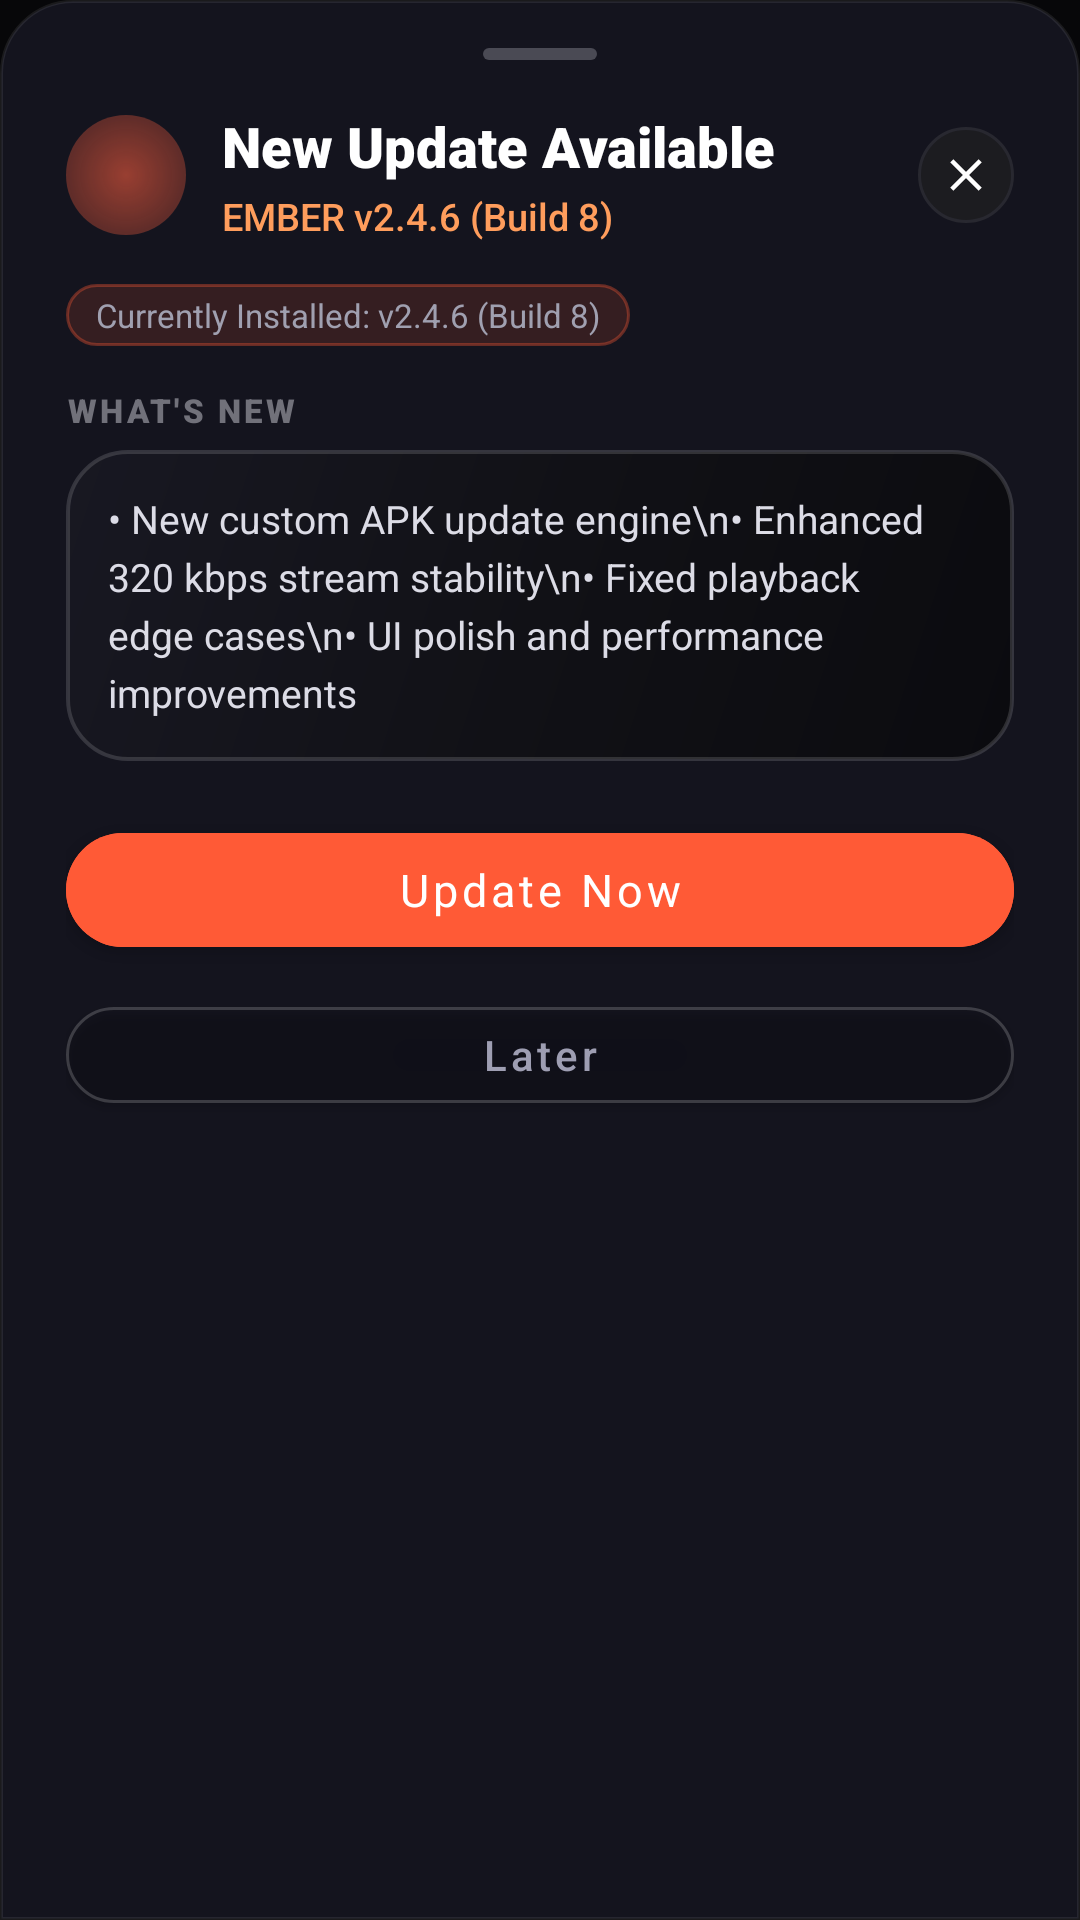

Where to tap for icons on this 1080w x 1920h app screen, as point (x, y):
close: point (966, 175)
